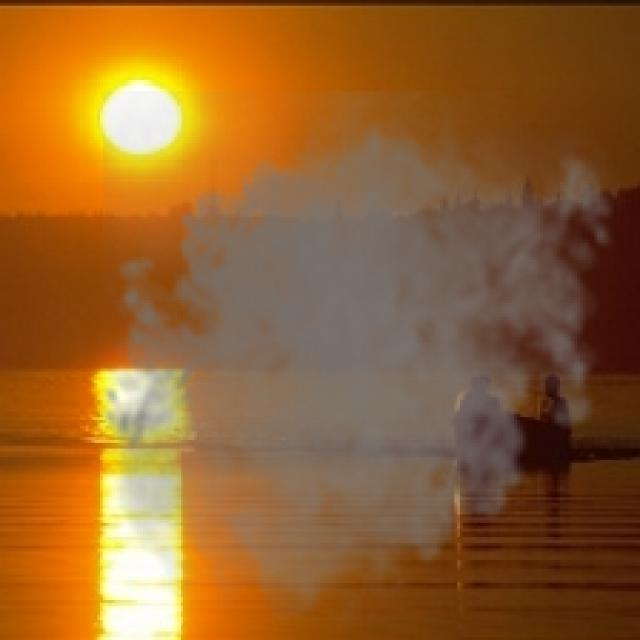smoke: (91, 92, 632, 637)
